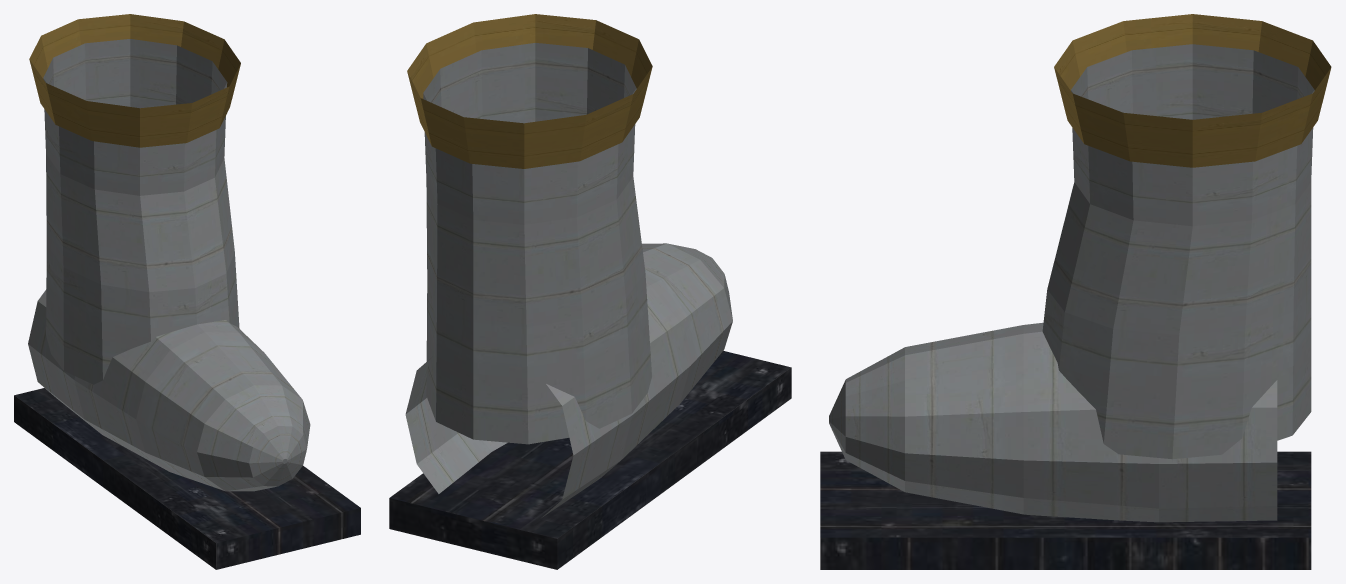
The model's file is eq_past_2_boot.glb.
The picture shows the model from 3 angles, left to right: view 1: azimuth 30°, elevation 25°; view 2: azimuth 150°, elevation 25°; view 3: azimuth 270°, elevation 25°; orthographic projection. The views are drawn at different scales.
Visible parts, largest first — view 1: eq_past_2_boot; view 2: eq_past_2_boot; view 3: eq_past_2_boot.
Boxes of the visible parts, x1,y1,x2,y2 form: eq_past_2_boot: (14, 14, 360, 569); eq_past_2_boot: (389, 14, 791, 569); eq_past_2_boot: (820, 14, 1331, 569).
Bounding box in the file's own units: 0.1539 × 0.312 × 0.3141.
Materials: 3 (3 with a texture image).
